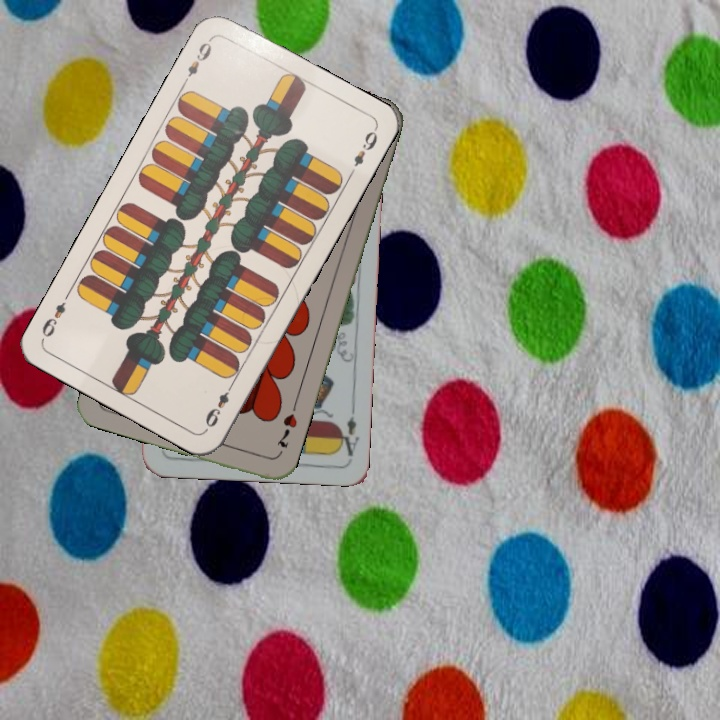E9: (178, 34, 215, 88), (201, 378, 237, 433)
EA: (334, 401, 362, 459)
H7: (272, 409, 300, 450)
